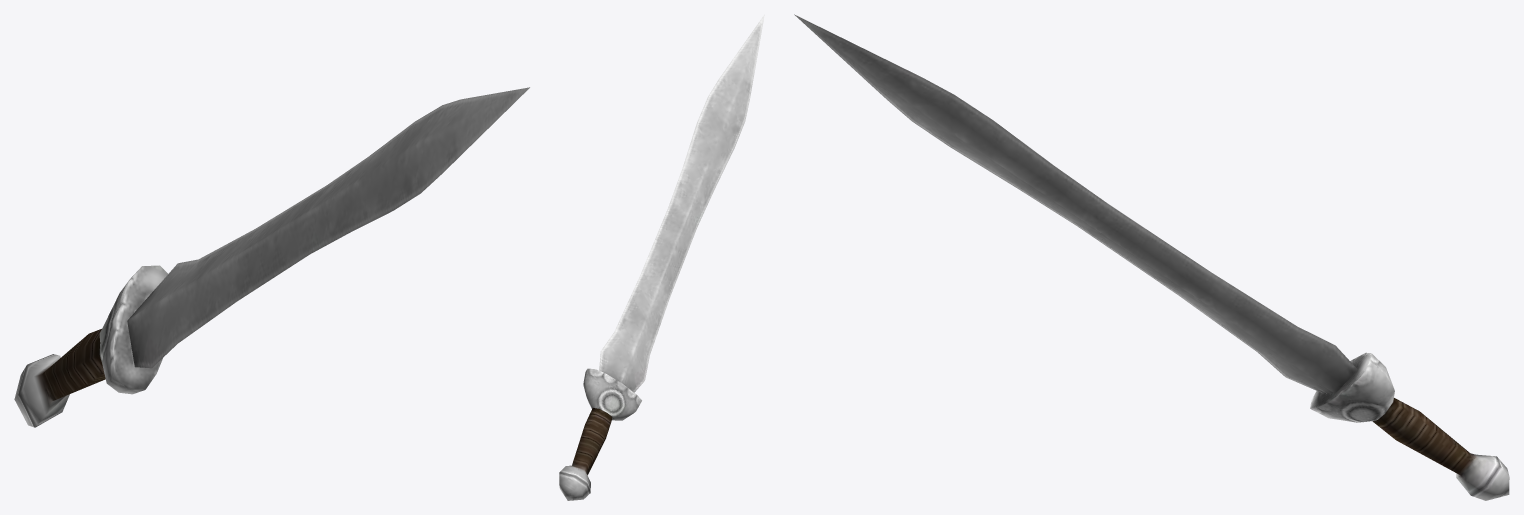
Rendered from weapon-ironweapons.glb.
3 views of the same model, side by side, from view 1: azimuth 30°, elevation 25°; view 2: azimuth 150°, elevation 25°; view 3: azimuth 270°, elevation 25° (orthographic). The views are drawn at different scales.
Bounding box in the file's own units: 0.1023 × 0.6405 × 0.8191.
1 material, 1 textured.
